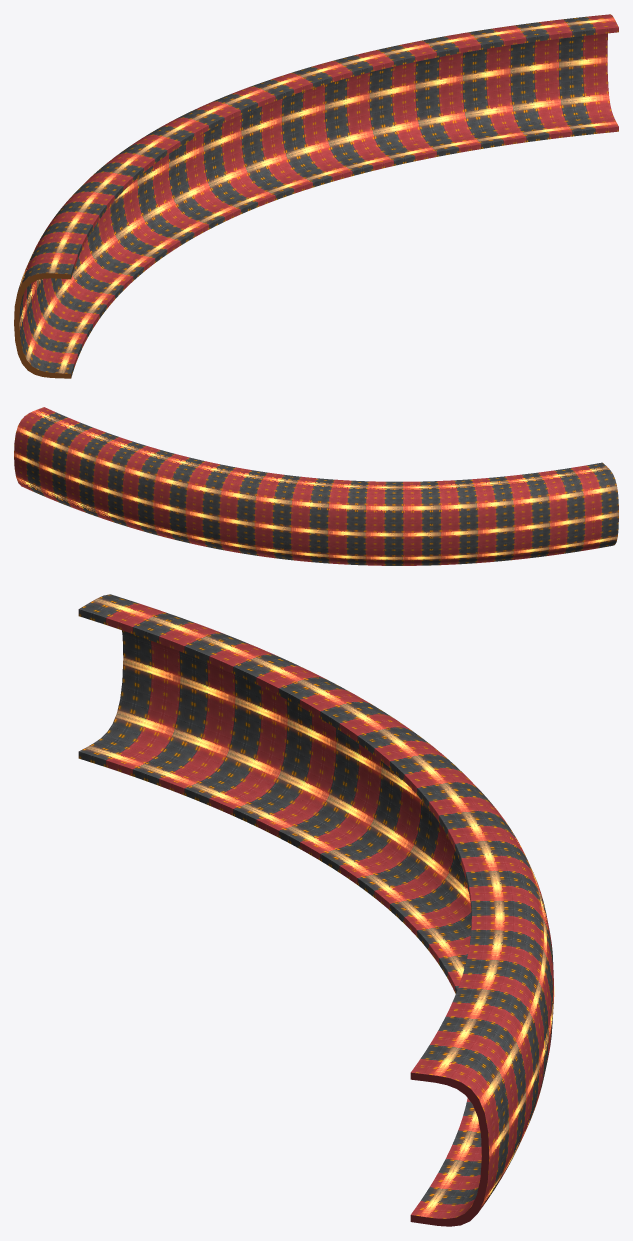
Rendered from SAMRTrack-28.fbx.
3 renders of one model, top to bottom at view 1: azimuth 30°, elevation 25°; view 2: azimuth 150°, elevation 25°; view 3: azimuth 270°, elevation 25°, orthographic. The views are drawn at different scales.
Visible parts, largest first — view 1: SAMRTrack-28; view 2: SAMRTrack-28; view 3: SAMRTrack-28.
Part boxes in pixels (left/top/right/bottom): SAMRTrack-28: left=14, top=14, right=618, bottom=378; SAMRTrack-28: left=14, top=407, right=618, bottom=565; SAMRTrack-28: left=78, top=594, right=554, bottom=1226.
Size of the model in its own units: 20317 by 2839 by 8129.
Materials: 2 (2 with a texture image).
